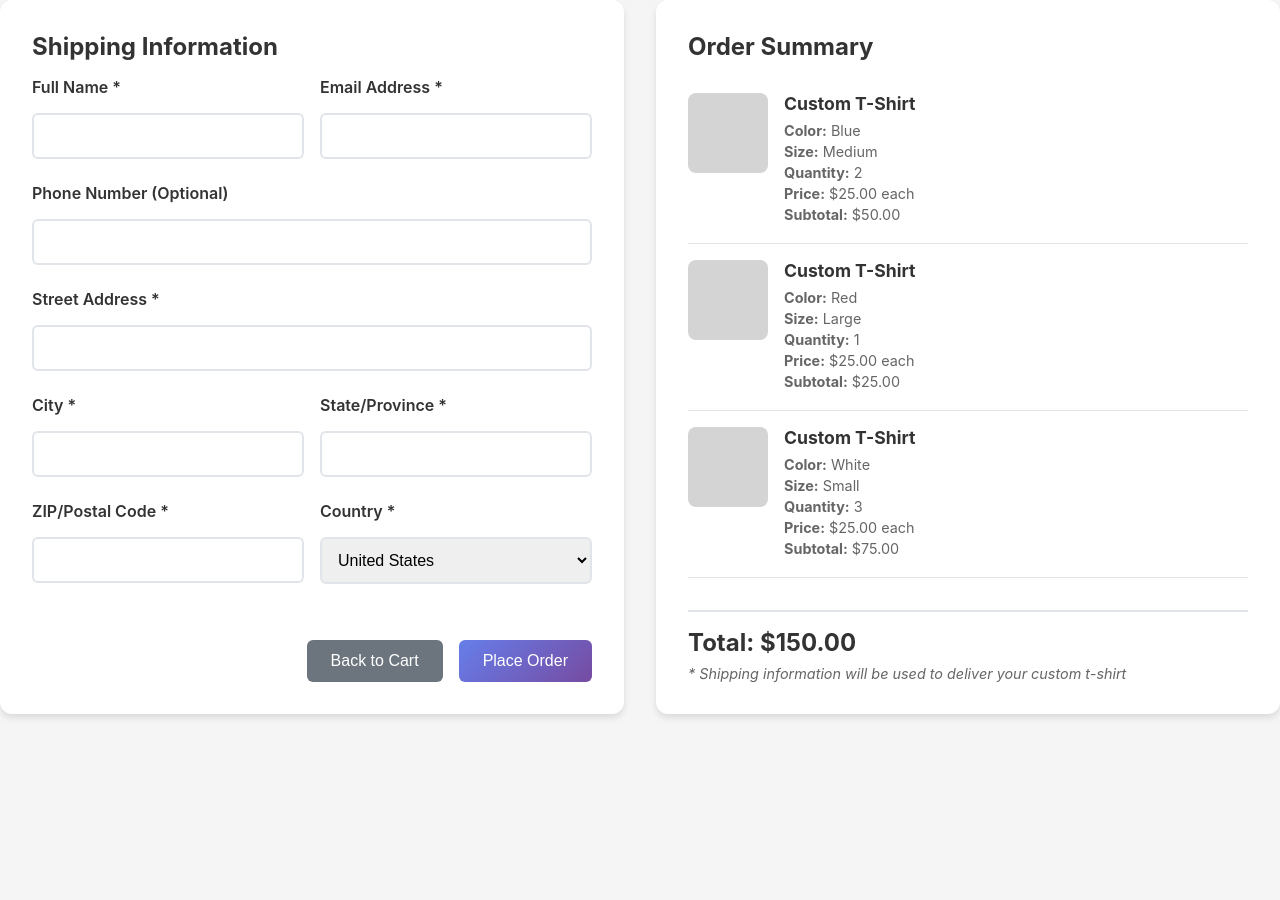
Scenario: Checkout Component › Order Submission › should handle order submission errors
Note: Fill in all required fields
Type "Test Customer" into the field labelled "Full Name *".
click(168, 136); type("Test Customer")  # box [32,113,304,159]
Type "test@example.com" into the field labelled "Email Address *".
click(456, 136); type("test@example.com")  # box [320,113,592,159]
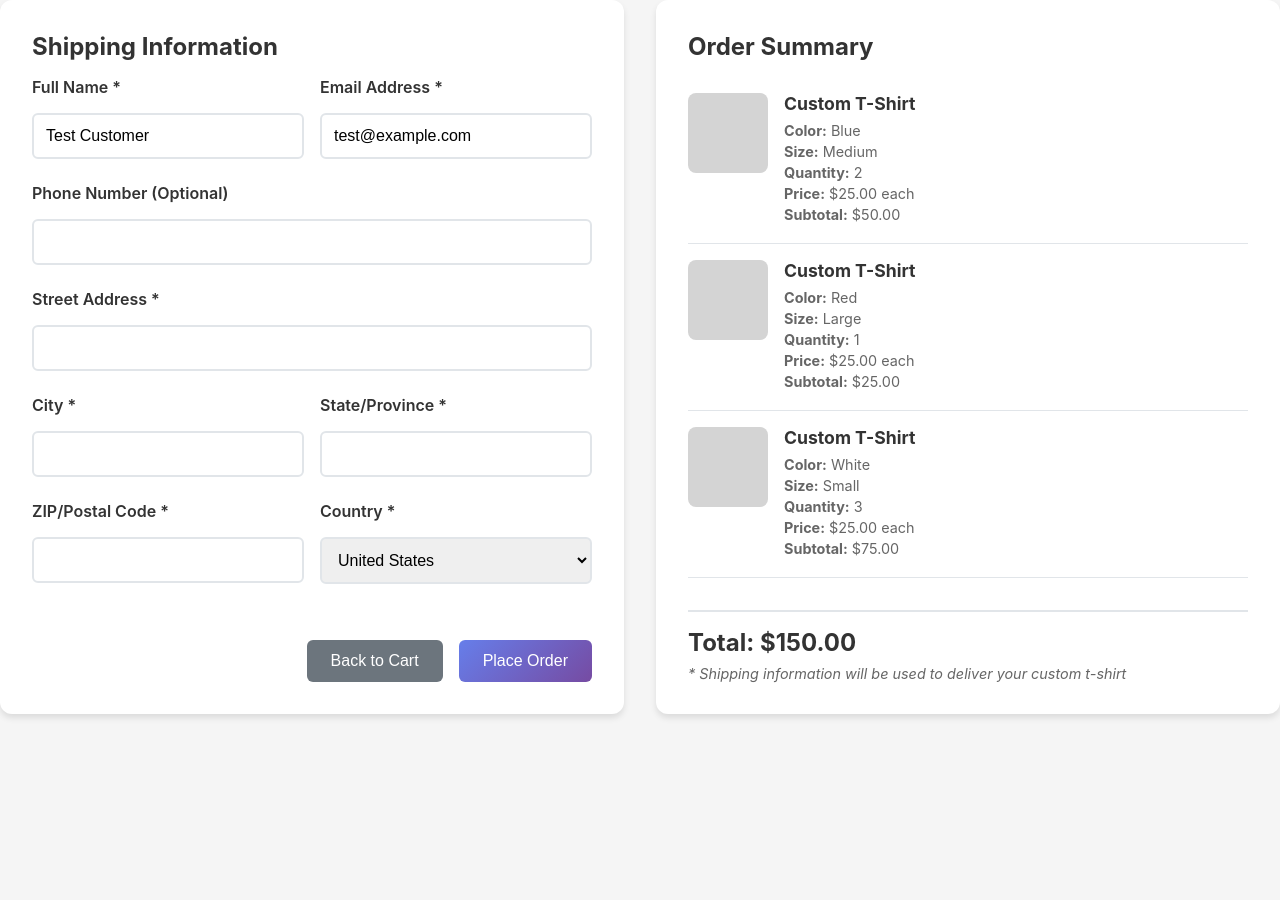
Type "123 Test St" into the field labelled "Street Address *".
click(312, 348); type("123 Test St")  # box [32,325,592,371]
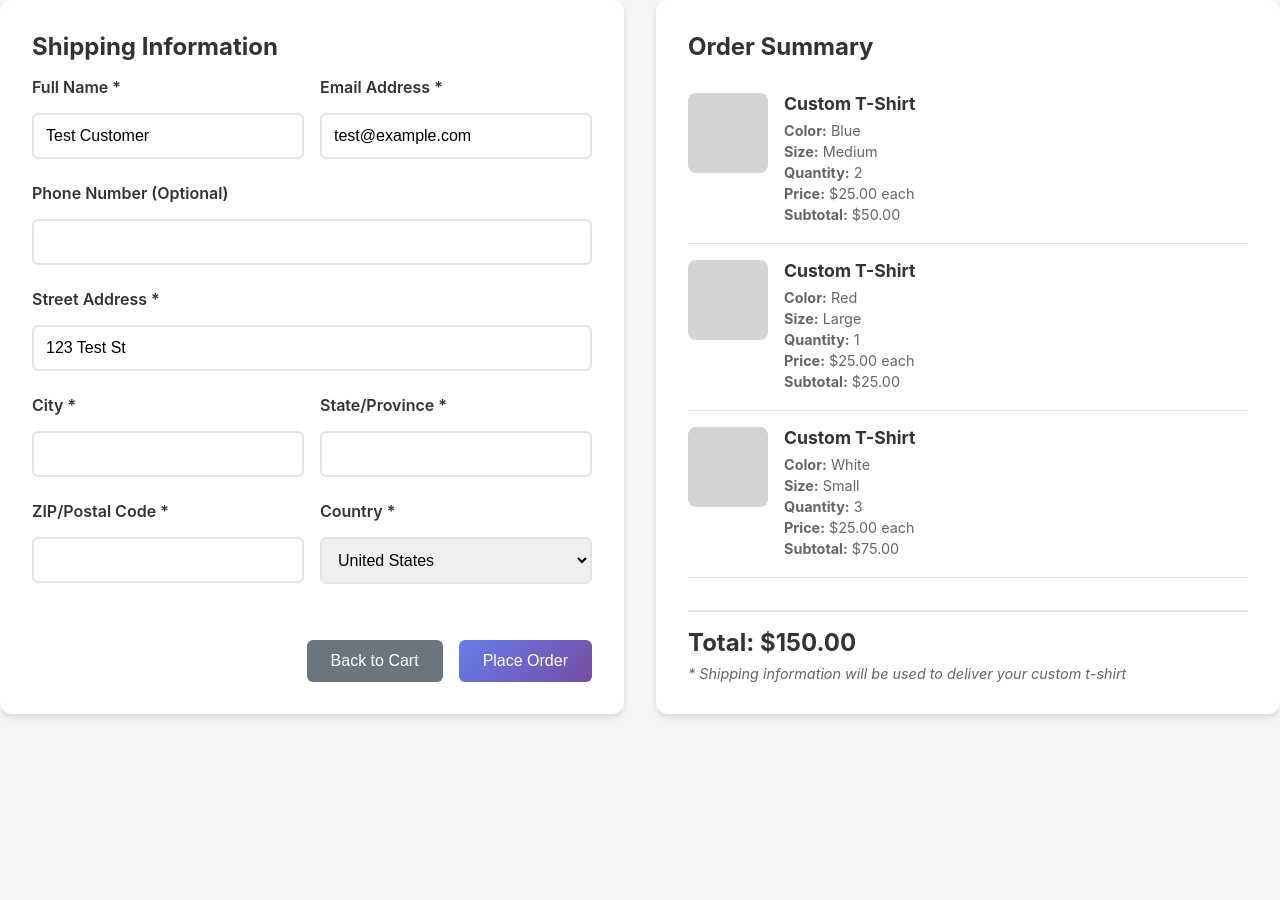
Type "Test City" into the field labelled "City *".
click(168, 454); type("Test City")  # box [32,431,304,477]
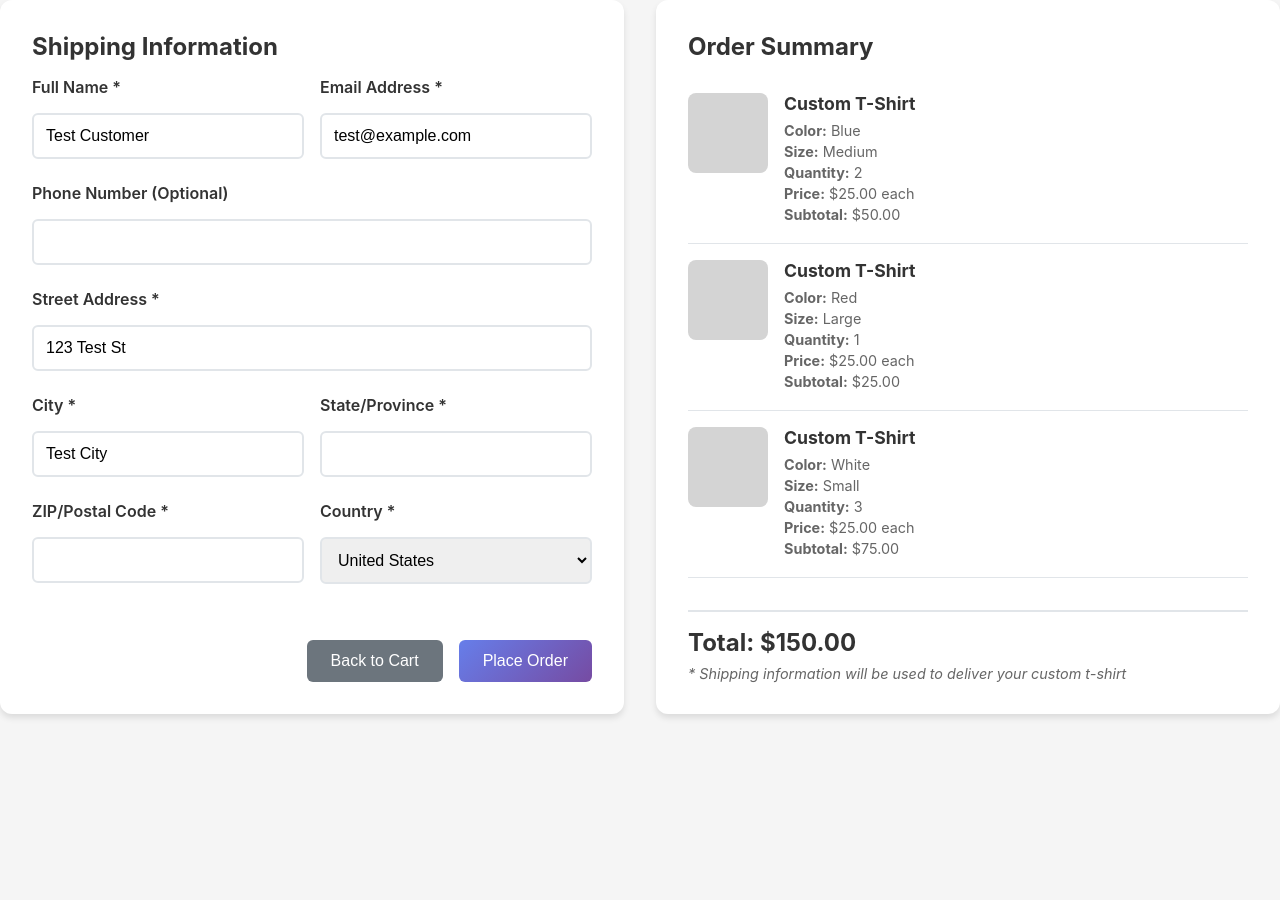
Type "TS" into the field labelled "State/Province *".
click(456, 454); type("TS")  # box [320,431,592,477]
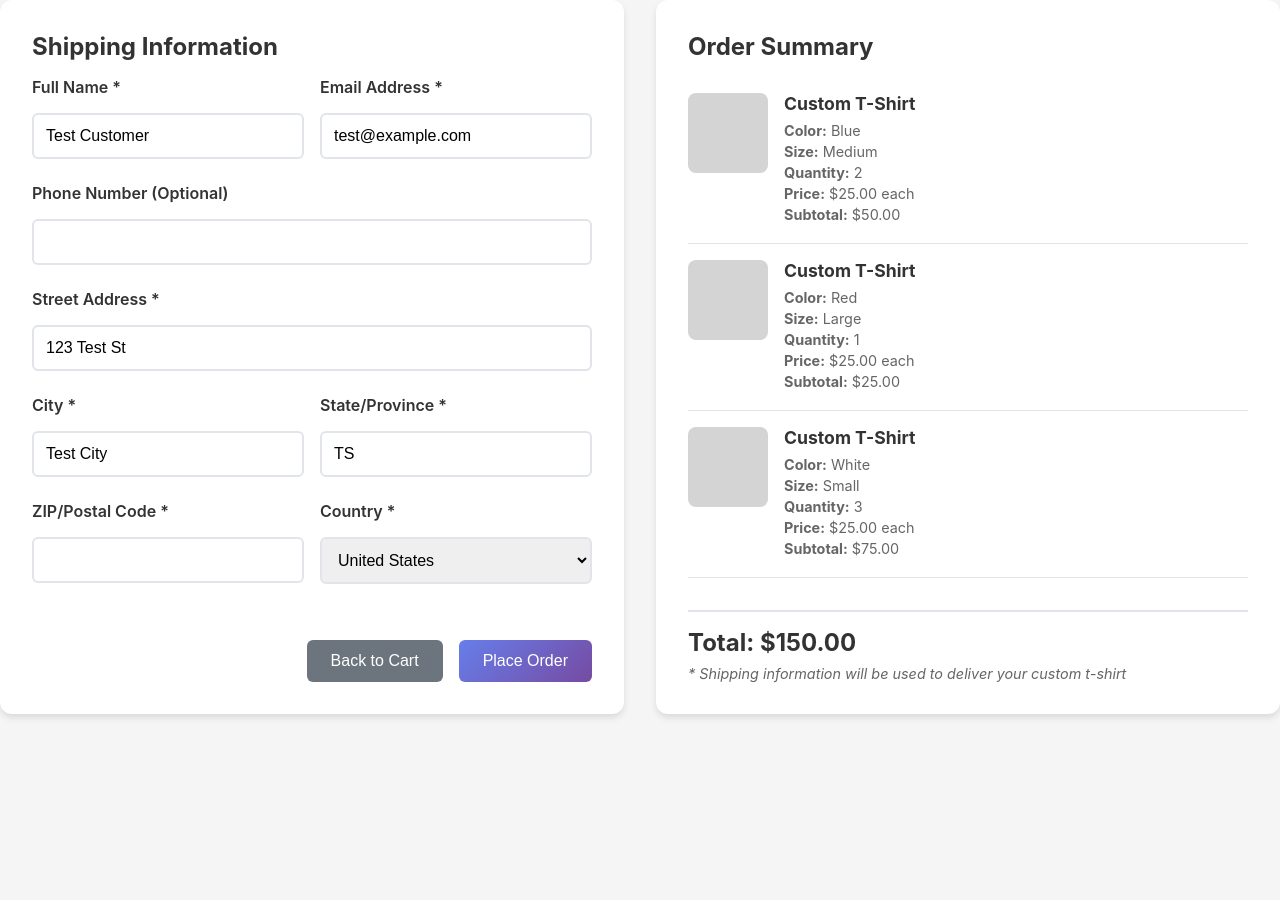
Type "12345" into the field labelled "ZIP/Postal Code *".
click(168, 560); type("12345")  # box [32,537,304,583]
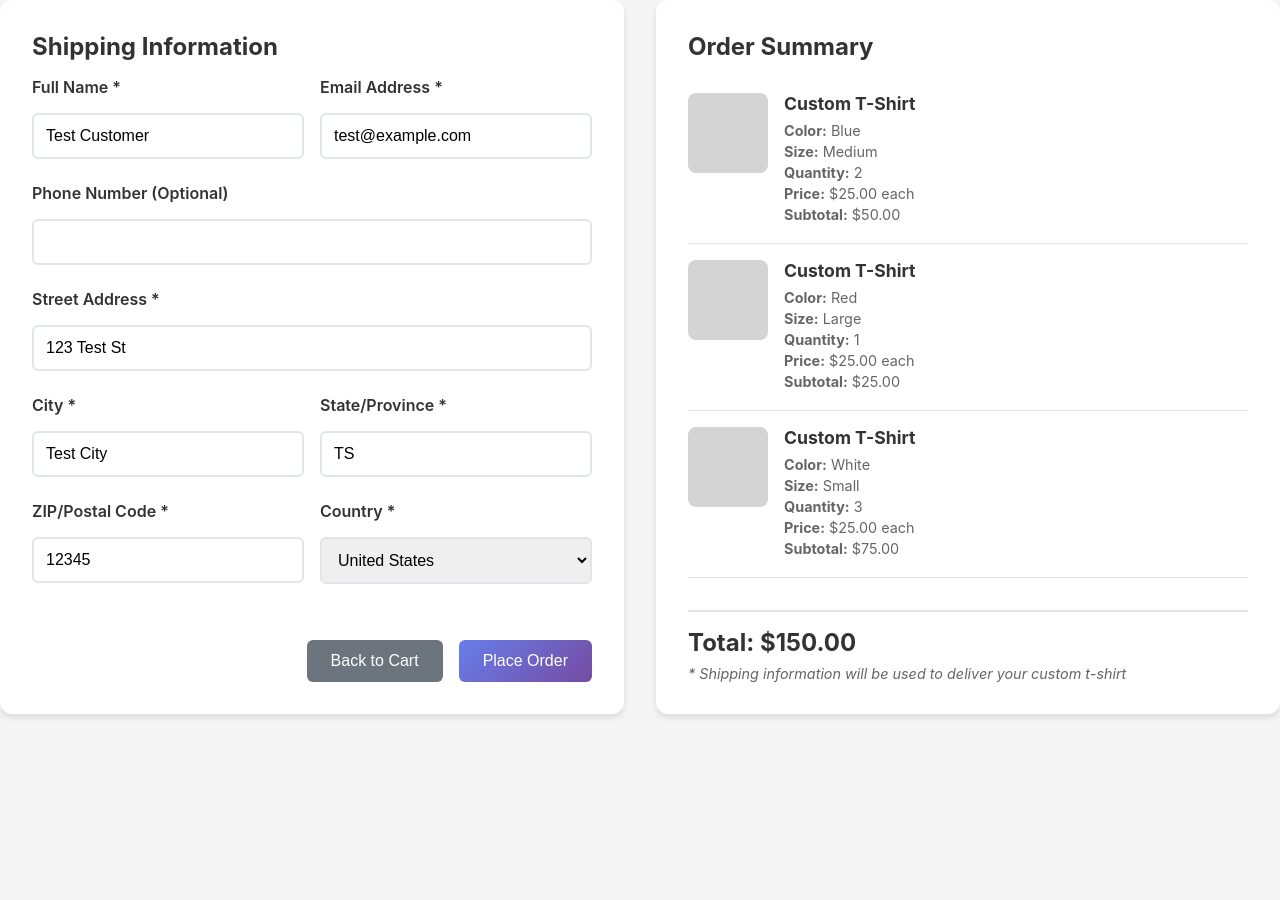
Note: Submit order
Click the button "Place Order".
click(525, 661)  # box [459,640,592,682]
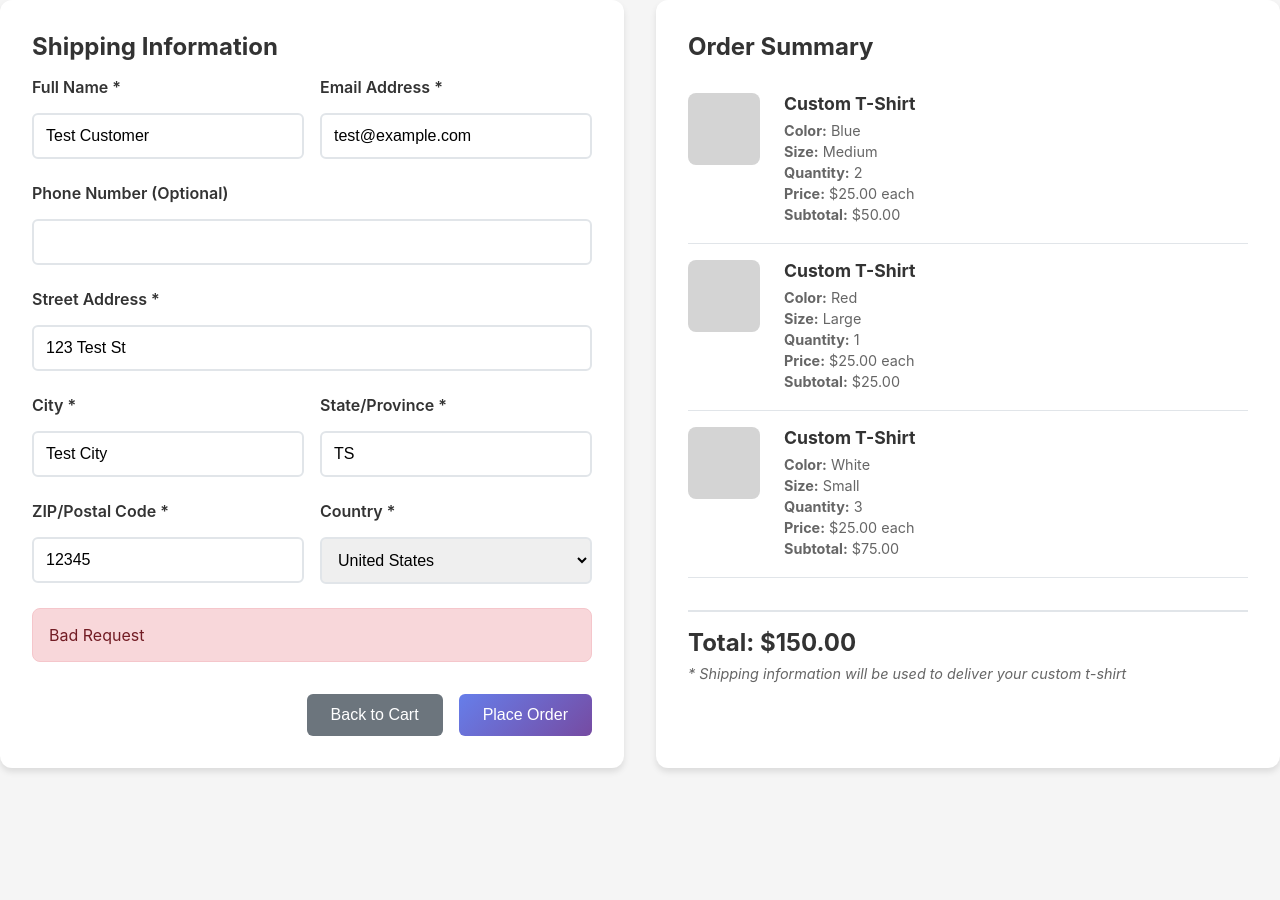
Check: the text "Bad Request" is shown, box [32,608,592,662]
